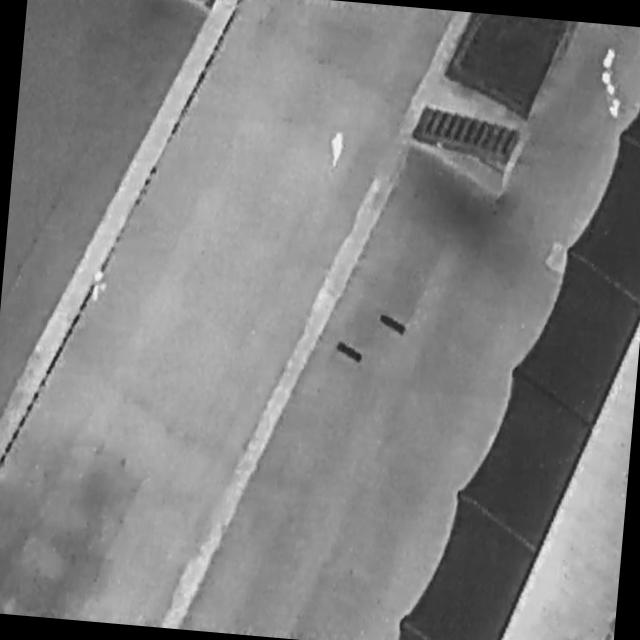person: (330, 131, 348, 172), (90, 268, 110, 304)
